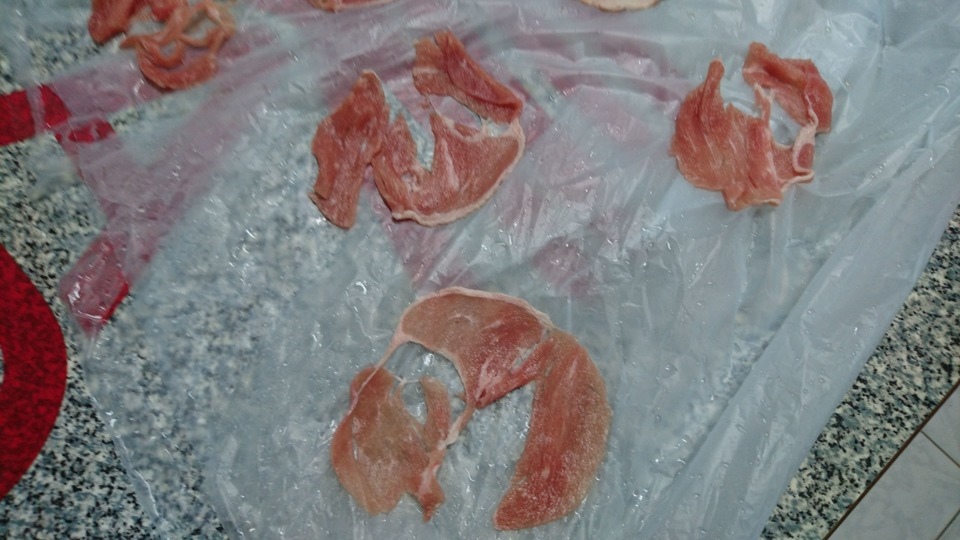restructured meat: (318, 283, 620, 525), (311, 35, 532, 235), (668, 36, 836, 215)
